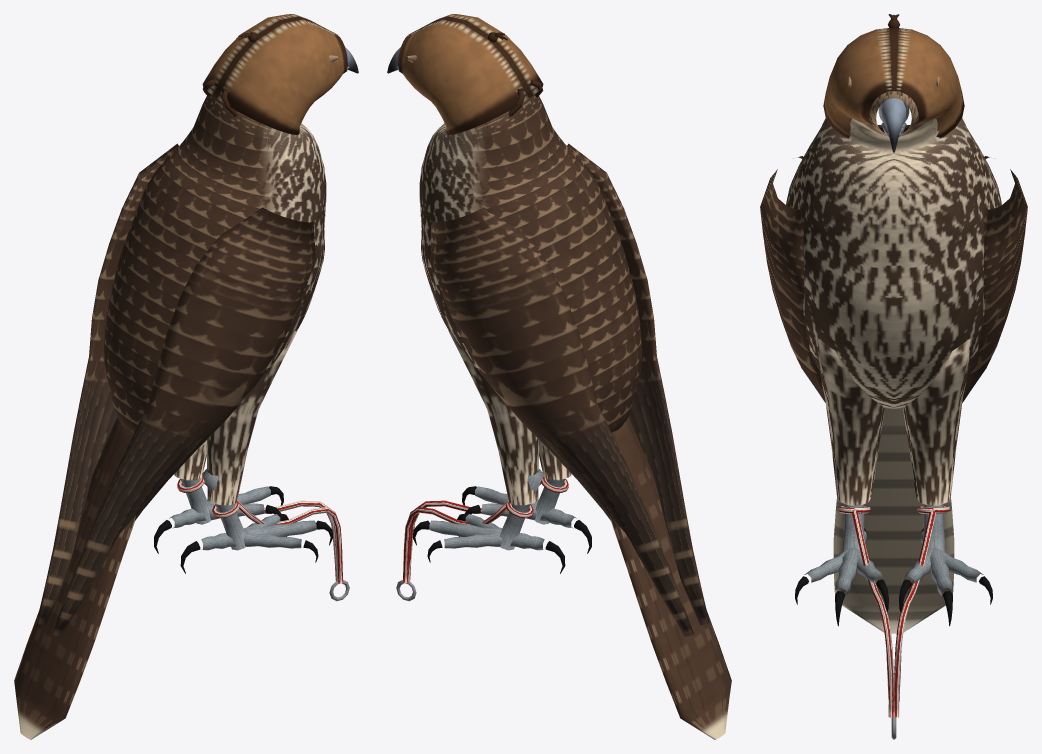
Rendered from saker_hooded.glb.
3 renders of one model, left to right at view 1: azimuth 30°, elevation 25°; view 2: azimuth 150°, elevation 25°; view 3: azimuth 270°, elevation 25°, orthographic. The views are drawn at different scales.
Visible parts, largest first — view 1: saker_body, saker_hood, saker_jesses; view 2: saker_body, saker_hood, saker_jesses; view 3: saker_body, saker_hood, saker_jesses.
Boxes of the visible parts, <box> form: saker_body: <box>14,47,358,739</box>; saker_hood: <box>202,14,347,134</box>; saker_jesses: <box>177,476,349,601</box>; saker_body: <box>387,47,731,739</box>; saker_hood: <box>398,14,543,134</box>; saker_jesses: <box>396,476,568,601</box>; saker_body: <box>760,76,1027,633</box>; saker_hood: <box>823,14,964,138</box>; saker_jesses: <box>837,505,950,739</box>.
Size of the model in its own units: 0.2398 by 0.4473 by 0.146.
Materials: 1 (1 with a texture image).
